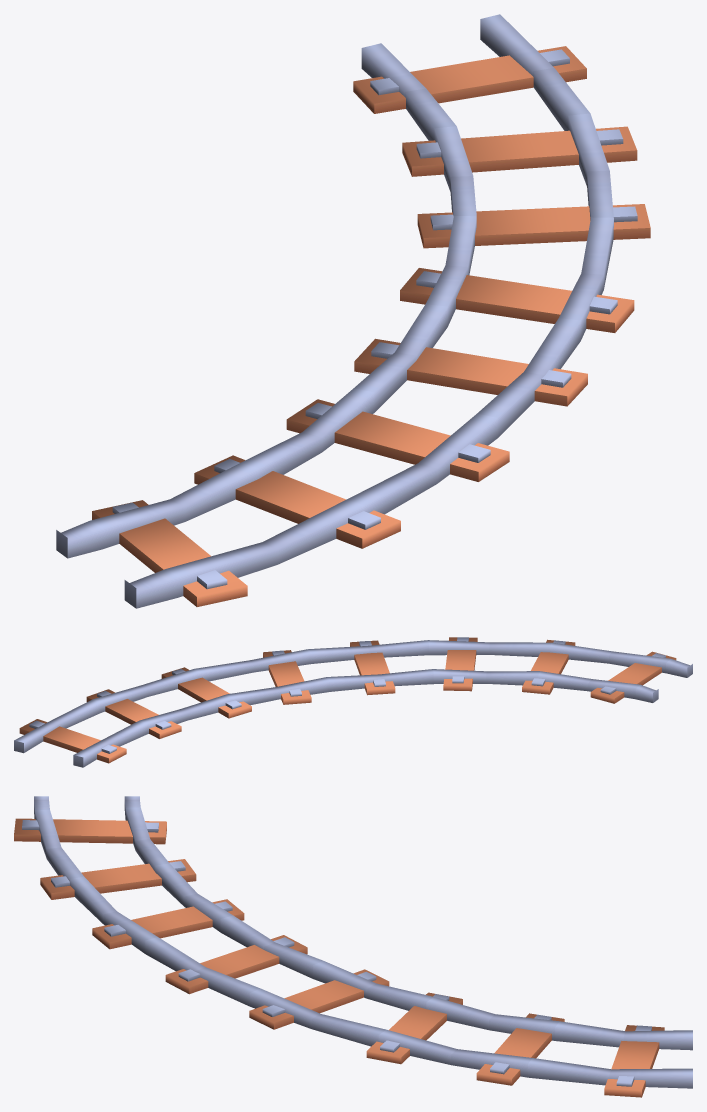
Rendered from kenney-train-railroad-damaged-corner-large.glb.
The picture shows the model from 3 angles, top to bottom: view 1: azimuth 30°, elevation 25°; view 2: azimuth 150°, elevation 25°; view 3: azimuth 270°, elevation 25°; orthographic projection. The views are drawn at different scales.
Visible parts, largest first — view 1: railroad-damaged-corner-large; view 2: railroad-damaged-corner-large; view 3: railroad-damaged-corner-large.
Part boxes in pixels (x1,y1,x2,y2): railroad-damaged-corner-large: (56,14,650,608); railroad-damaged-corner-large: (14,637,692,767); railroad-damaged-corner-large: (14,796,692,1097).
Size of the model in its own units: 4.49 by 0.0997 by 4.48.
Materials: 1 (1 with a texture image).
